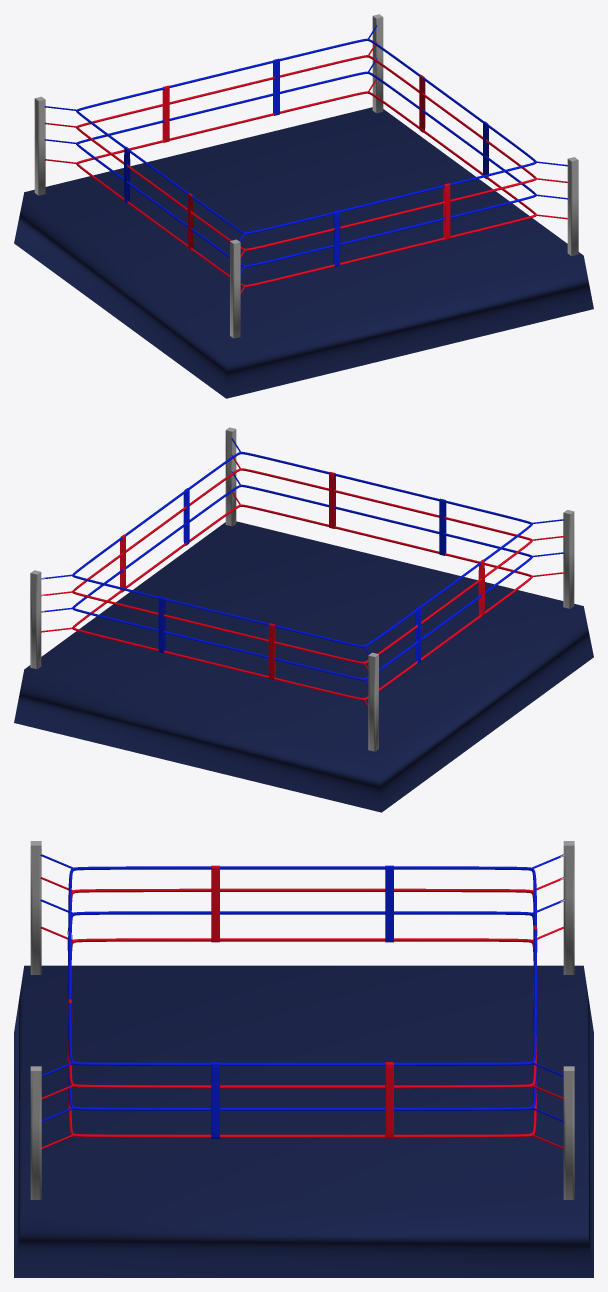
Rendered from Gamejam_Ring (1).fbx.
The picture shows the model from 3 angles, top to bottom: view 1: azimuth 30°, elevation 25°; view 2: azimuth 150°, elevation 25°; view 3: azimuth 270°, elevation 25°; orthographic projection. The views are drawn at different scales.
Visible parts, largest first — view 1: 立方体, 10494_Regulation_Boxing_Ring_SG_V1_Max2011_it2; view 2: 立方体, 10494_Regulation_Boxing_Ring_SG_V1_Max2011_it2; view 3: 立方体, 10494_Regulation_Boxing_Ring_SG_V1_Max2011_it2.
Boxes of the visible parts, left/top/right/bottom form: 立方体: left=14, top=107, right=593, bottom=398; 10494_Regulation_Boxing_Ring_SG_V1_Max2011_it2: left=34, top=14, right=578, bottom=338; 立方体: left=14, top=521, right=593, bottom=812; 10494_Regulation_Boxing_Ring_SG_V1_Max2011_it2: left=30, top=427, right=574, bottom=751; 立方体: left=14, top=965, right=593, bottom=1277; 10494_Regulation_Boxing_Ring_SG_V1_Max2011_it2: left=30, top=841, right=574, bottom=1199.
Size of the model in its own units: 2000 by 764 by 2000.
